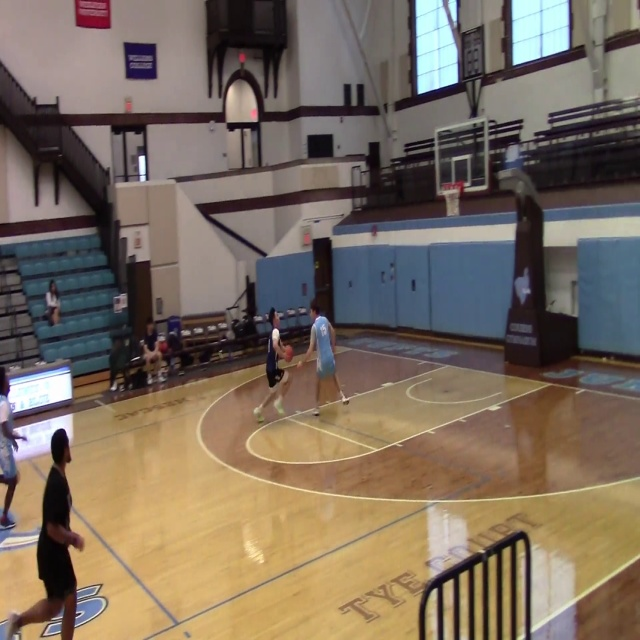Basketball: (283, 345, 293, 362), (159, 341, 168, 352)
